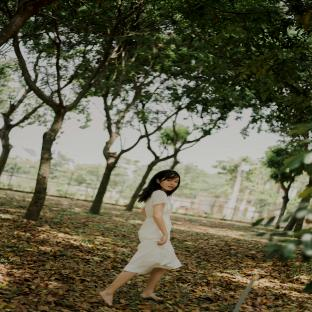Human: (100, 170, 181, 305)
